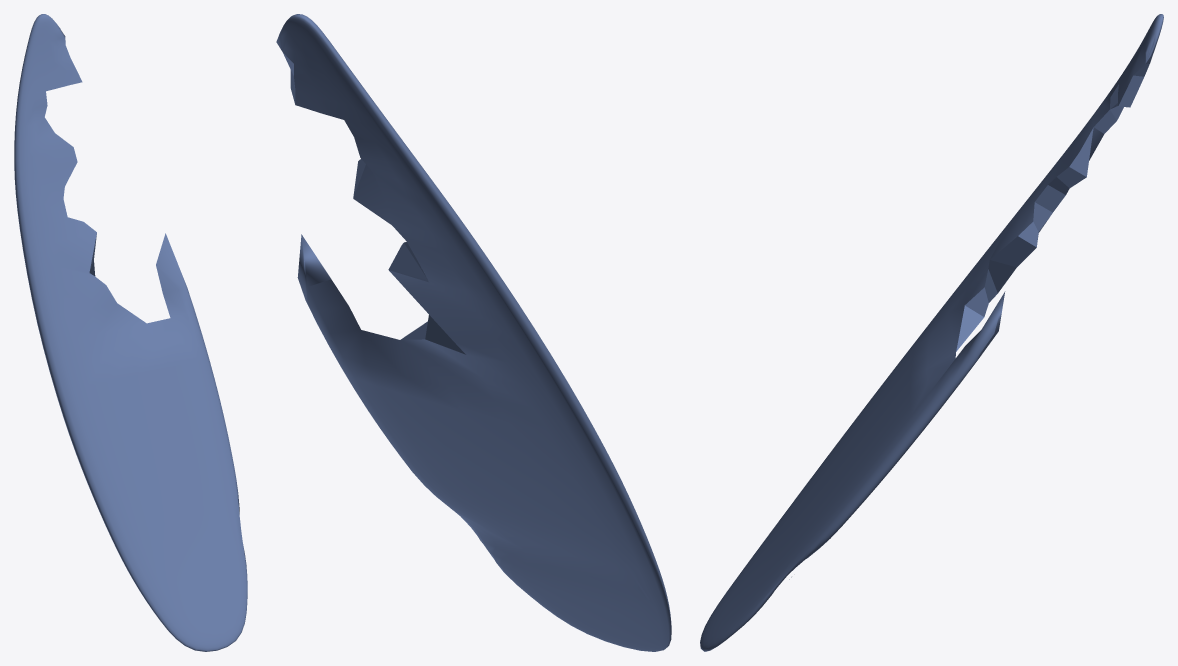
The model's file is surfboard(broken).fbx.
3 renders of one model, left to right at view 1: azimuth 30°, elevation 25°; view 2: azimuth 150°, elevation 25°; view 3: azimuth 270°, elevation 25°, orthographic. The views are drawn at different scales.
Visible parts, largest first — view 1: Surfboard_broken_; view 2: Surfboard_broken_; view 3: Surfboard_broken_.
Boxes of the visible parts, left/top/right/bottom form: Surfboard_broken_: left=14, top=14, right=247, bottom=651; Surfboard_broken_: left=276, top=14, right=671, bottom=651; Surfboard_broken_: left=700, top=14, right=1163, bottom=651.
Size of the model in its own units: 2.61 by 8.36 by 5.54.
